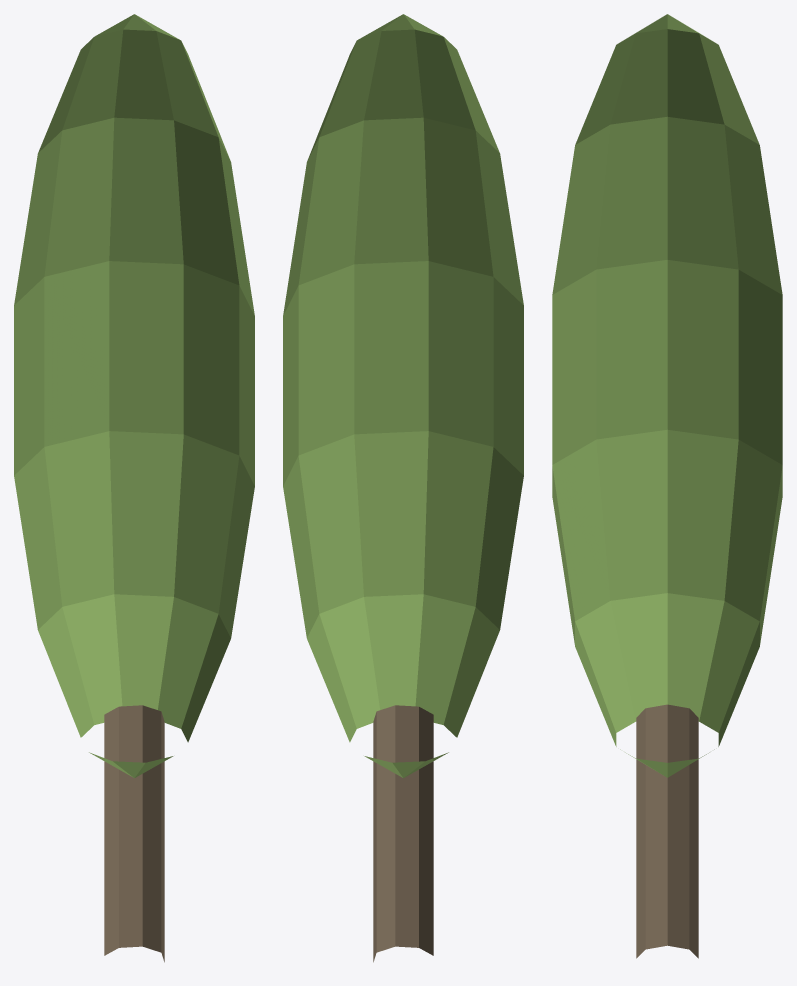
File: poplar.glb
The picture shows the model from 3 angles, left to right: view 1: azimuth 30°, elevation 25°; view 2: azimuth 150°, elevation 25°; view 3: azimuth 270°, elevation 25°; orthographic projection.
Visible parts, largest first — view 1: poplar; view 2: poplar; view 3: poplar.
Part boxes in pixels (x1,y1,x2,y2): poplar: [14, 14, 254, 962]; poplar: [283, 14, 523, 962]; poplar: [552, 14, 782, 958].
Size of the model in its own units: 0.546 by 2.35 by 0.5192.
